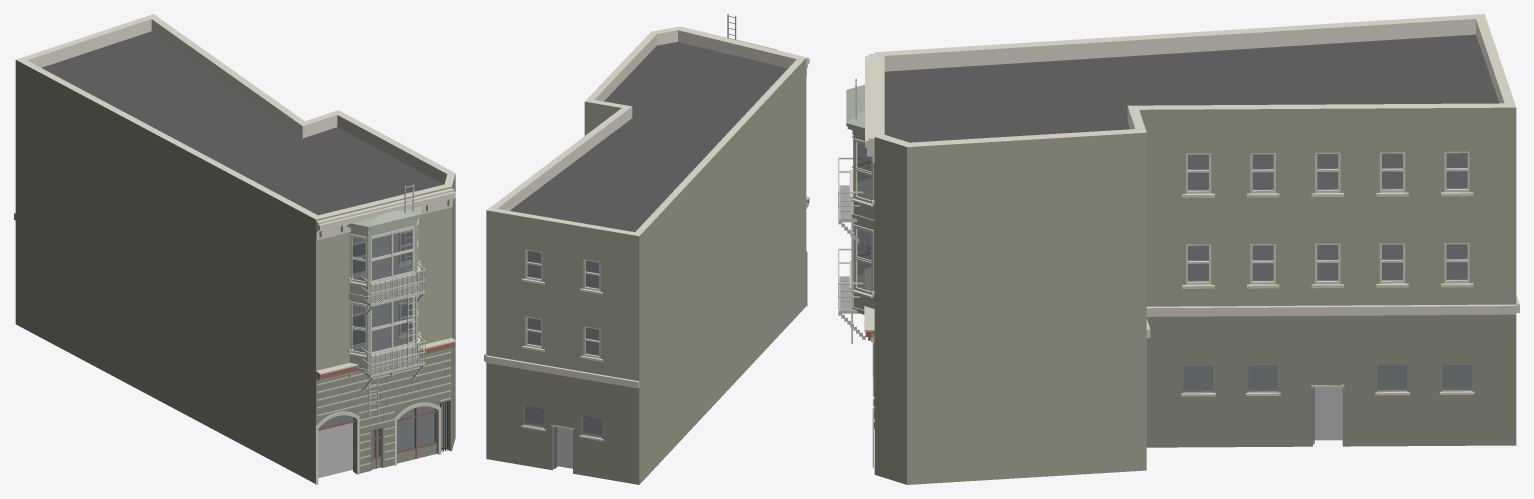
File: exterior.glb
3 views of the same model, side by side, from view 1: azimuth 30°, elevation 25°; view 2: azimuth 150°, elevation 25°; view 3: azimuth 270°, elevation 25° (orthographic). The views are drawn at different scales.
Visible parts, largest first — view 1: shell, roof, bay-glazing-hyb, shadow-proxy, bay-windows-hyb, fire-escape, glazing, trim, hyD-rubble-5, storefront, hyC-arches-5, hand-ornament; view 2: shell, roof, shadow-proxy, glazing, trim, frames; view 3: shell, roof, shadow-proxy, glazing, trim, frames, bay-glazing-hyb, bay-windows-hyb, fire-escape.
Part boxes in pixels (x1,y1,x2,y2): shell: [15, 14, 455, 483]; roof: [41, 31, 443, 215]; bay-glazing-hyb: [349, 219, 421, 357]; shadow-proxy: [318, 232, 442, 477]; bay-windows-hyb: [347, 206, 422, 378]; fire-escape: [360, 183, 425, 417]; glazing: [317, 232, 435, 457]; trim: [14, 188, 455, 381]; hyD-rubble-5: [317, 350, 450, 470]; storefront: [318, 401, 448, 469]; hyC-arches-5: [315, 401, 441, 484]; hand-ornament: [316, 338, 455, 380]; shell: [486, 26, 806, 484]; roof: [510, 42, 787, 231]; shadow-proxy: [526, 251, 601, 468]; glazing: [524, 250, 601, 437]; trim: [484, 26, 809, 441]; frames: [525, 249, 600, 358]; shell: [874, 14, 1516, 484]; roof: [884, 34, 1498, 142]; shadow-proxy: [1184, 153, 1471, 440]; glazing: [1183, 153, 1471, 391]; trim: [865, 54, 1519, 396]; frames: [1186, 151, 1469, 284]; bay-glazing-hyb: [849, 130, 873, 297]; bay-windows-hyb: [846, 84, 874, 314]; fire-escape: [838, 78, 865, 343].
Size of the model in its own units: 10.56 by 13.38 by 22.83.
